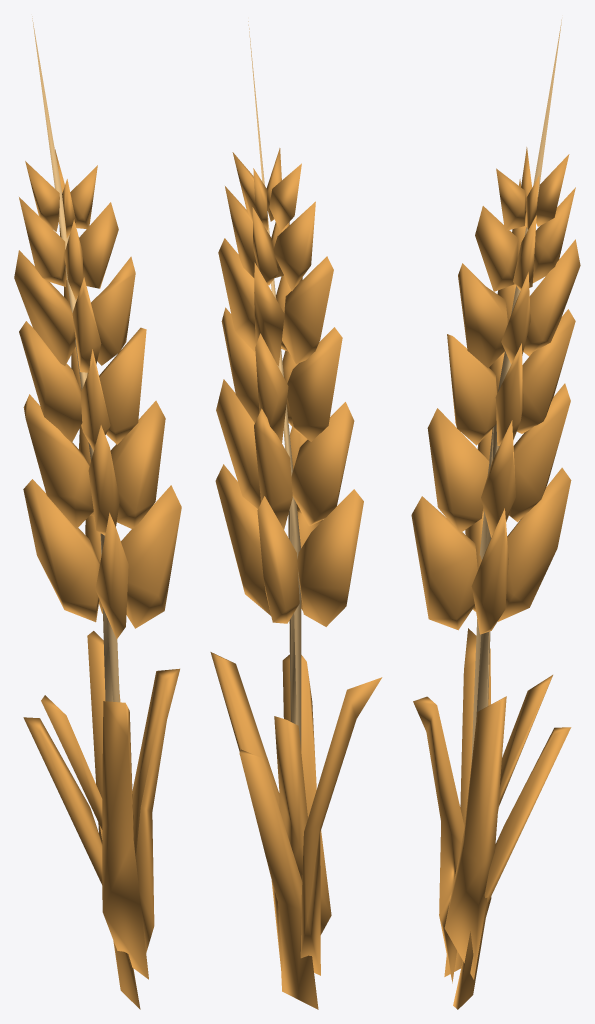
File: wheat_plant.glb
The picture shows the model from 3 angles, left to right: view 1: azimuth 90°, elevation 25°; view 2: azimuth 150°, elevation 25°; view 3: azimuth 270°, elevation 25°; orthographic projection. The views are drawn at different scales.
Parts seen in each view (by area): view 1: wheat_plant; view 2: wheat_plant; view 3: wheat_plant.
Boxes of the visible parts, left/top/right/bottom form: wheat_plant: left=14, top=16, right=181, bottom=1009; wheat_plant: left=210, top=21, right=382, bottom=1009; wheat_plant: left=411, top=19, right=580, bottom=1009.
Size of the model in its own units: 0.3117 by 1.98 by 0.304.
